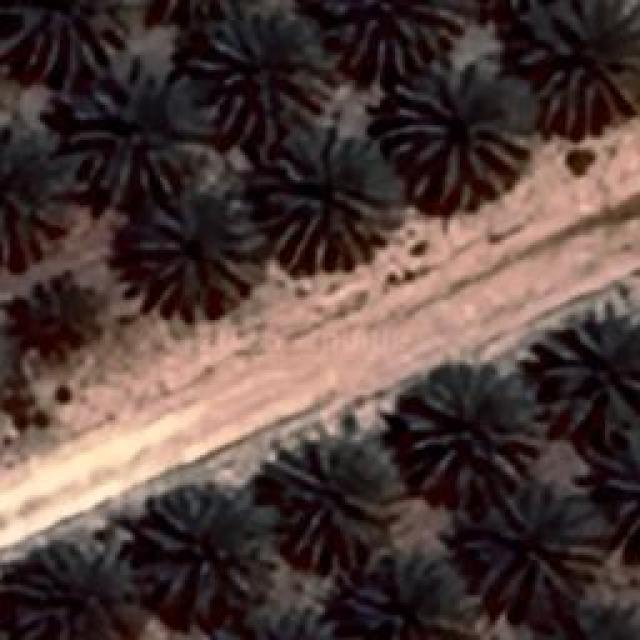PalmTree: (378, 52, 532, 202), (397, 362, 545, 500), (260, 125, 395, 273), (130, 182, 268, 320), (192, 12, 332, 146), (272, 435, 398, 570), (462, 485, 608, 600), (58, 58, 122, 311), (65, 67, 190, 195), (144, 490, 268, 612), (520, 2, 638, 130), (1, 555, 144, 640), (336, 552, 474, 640), (538, 312, 638, 430), (320, 0, 462, 70), (9, 0, 132, 80), (0, 130, 75, 260), (533, 601, 640, 640), (600, 430, 638, 538), (122, 9, 196, 58), (235, 602, 340, 636)
